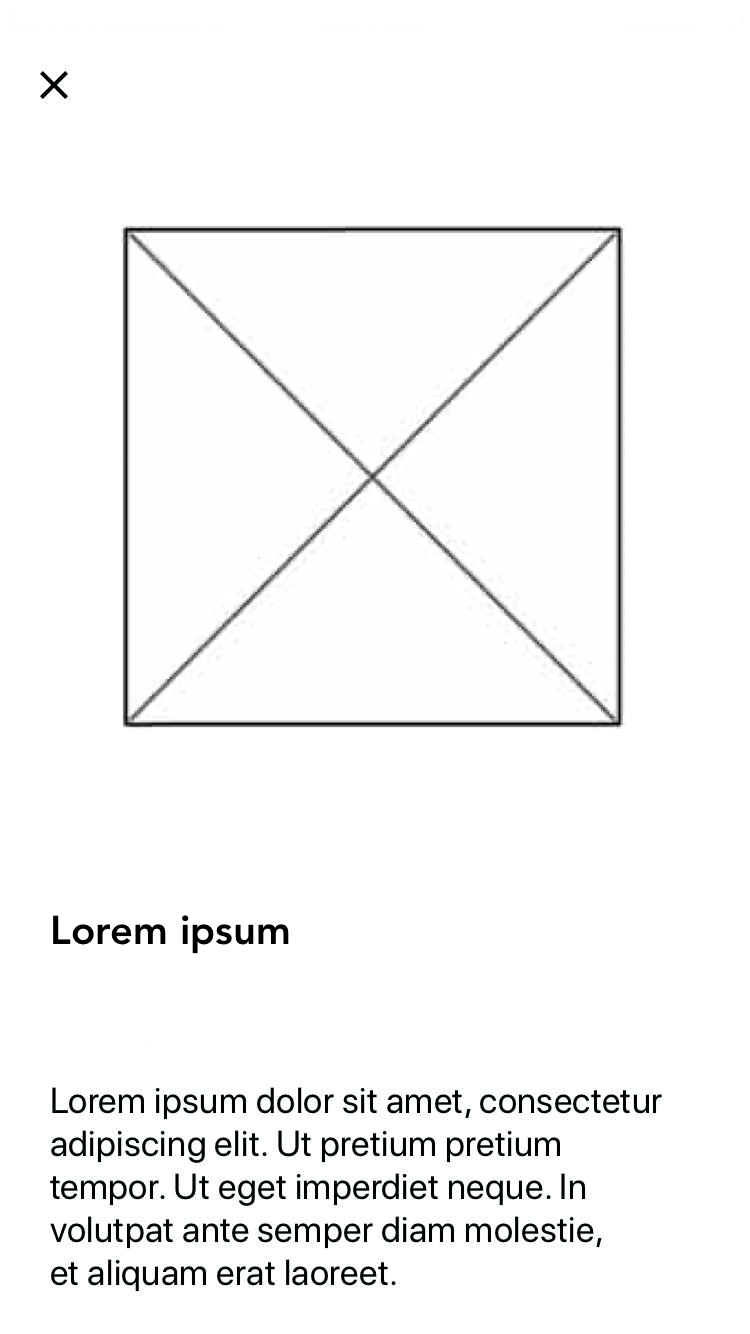Icon: (40, 71, 70, 101)
Image: (123, 226, 624, 727)
Text: (50, 1087, 663, 1293), (53, 914, 290, 955)
